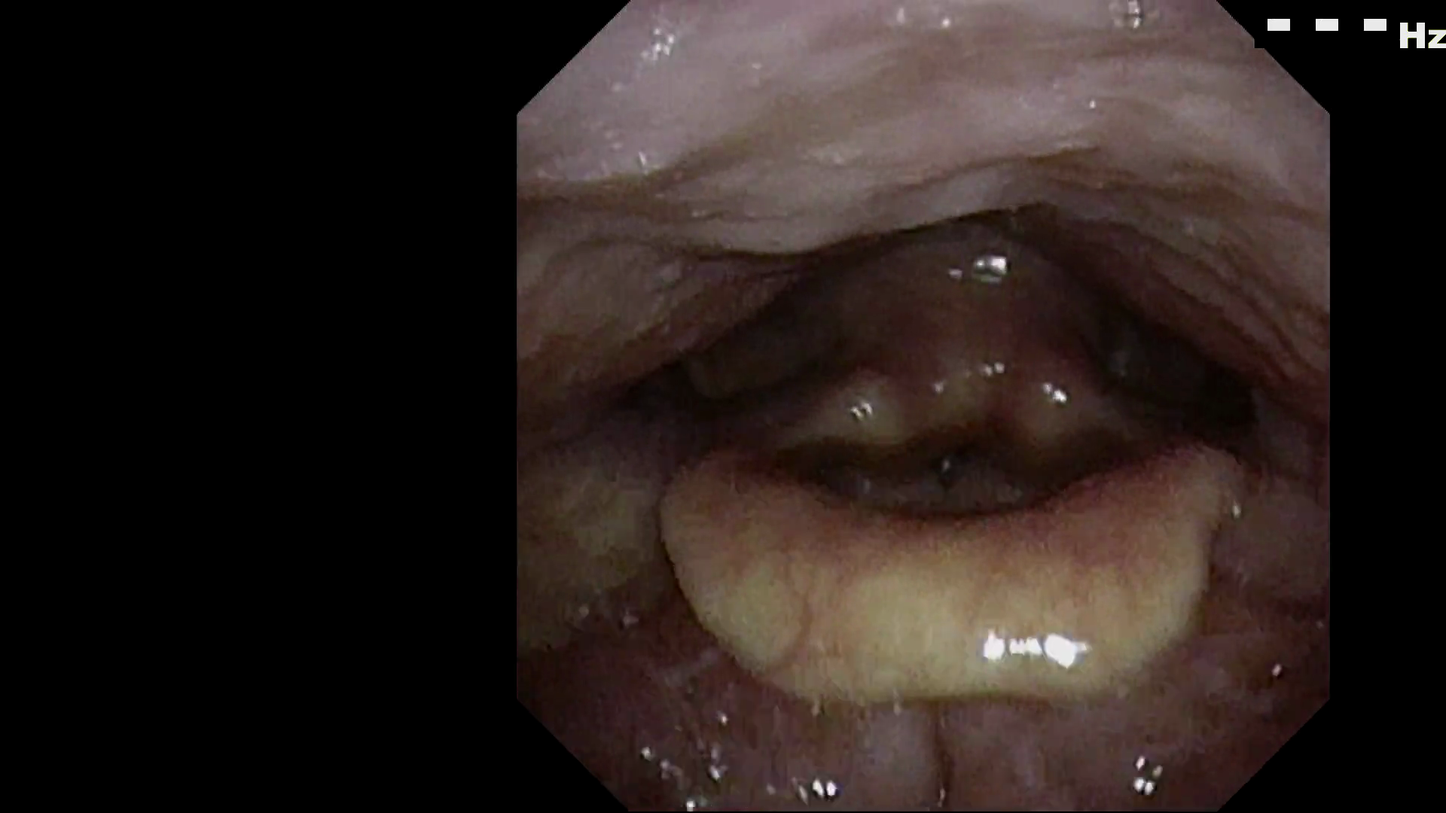epiglottis: (670, 485, 1221, 684)
trachea: (908, 425, 981, 517)
